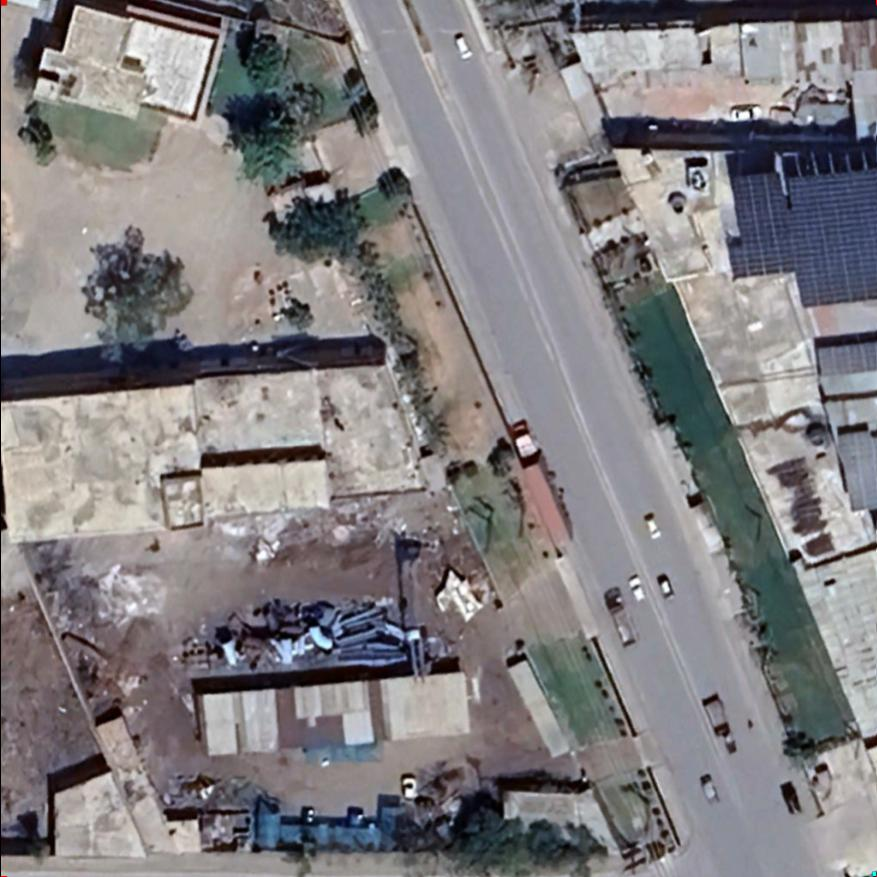Solarpanel: (707, 164, 875, 320), (833, 430, 874, 512), (813, 339, 875, 378)
